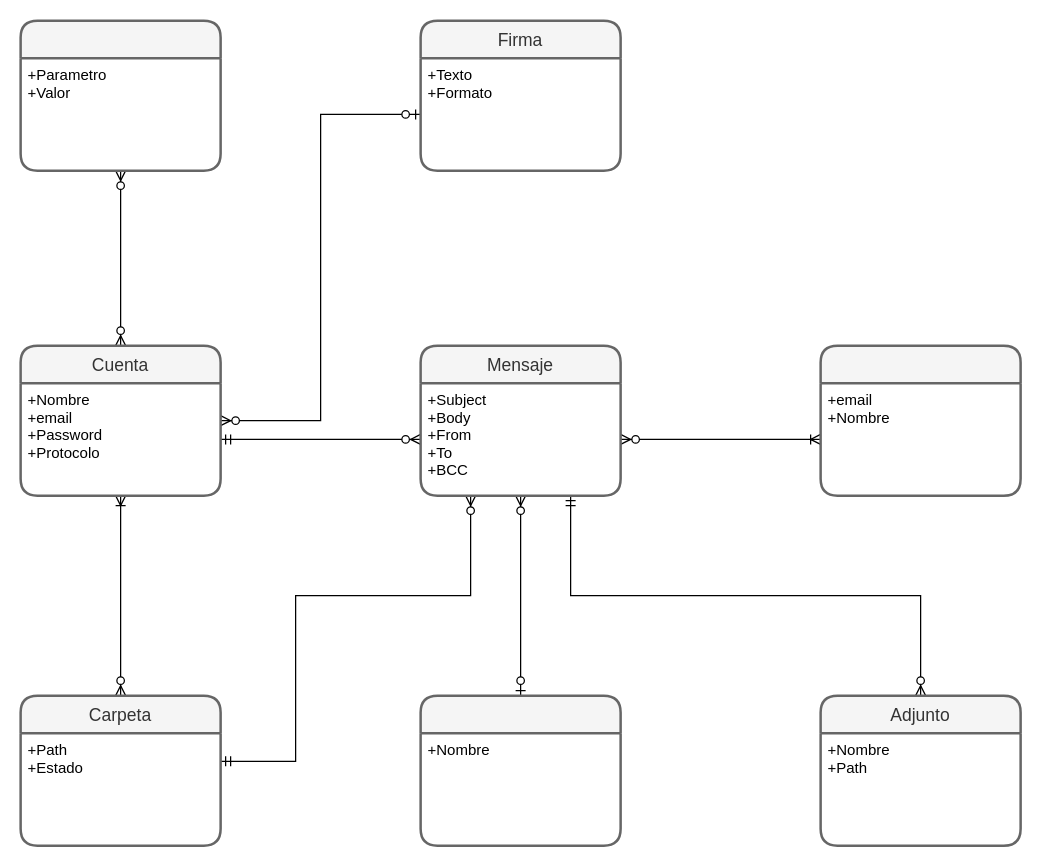
Some shapes in this 1041 by 866 pixel diagram are drawn without their labels. The shapes that lost their labels are listed below. From the top down, each one's box as (x1, y1, x2, y2) in pixels, then its label:
(19, 19, 221, 171): Configuración
(819, 344, 1021, 496): Contacto
(419, 694, 621, 846): Clasificación
